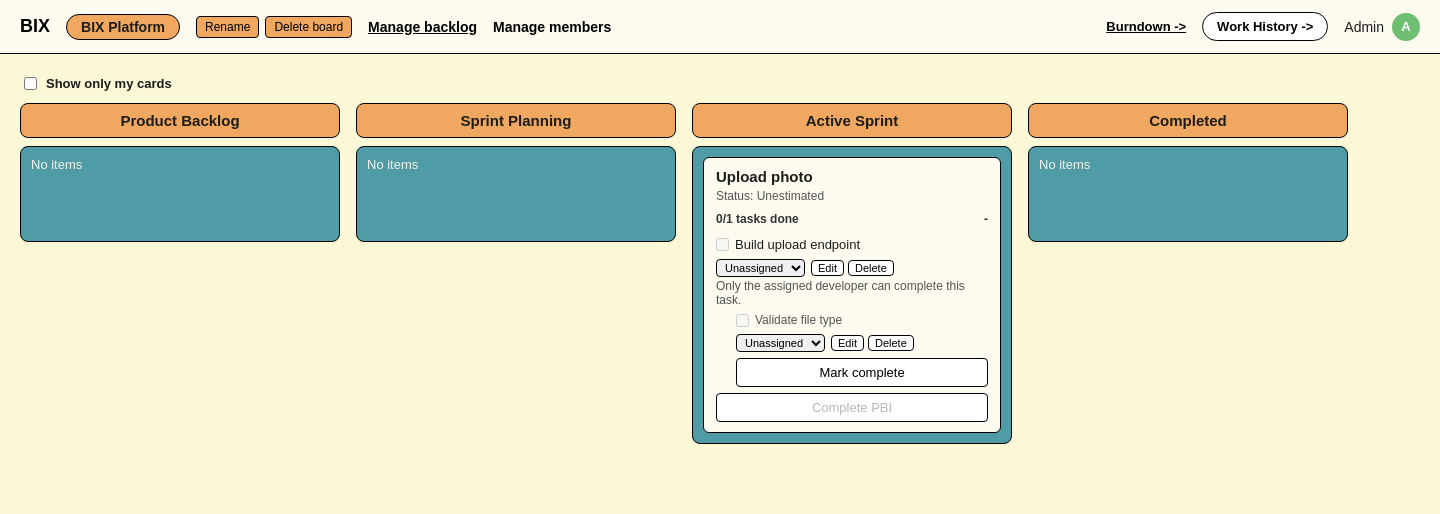
Scenario: Board page - rename the board (US-04c) › keeps the form open and shows the backend error when the rename is rejected
Check: the text "BIX Platform" is shown, box [66,14,180,40]
Click the button "Rename" at coordinates (228, 26), box [196,16,259,38]
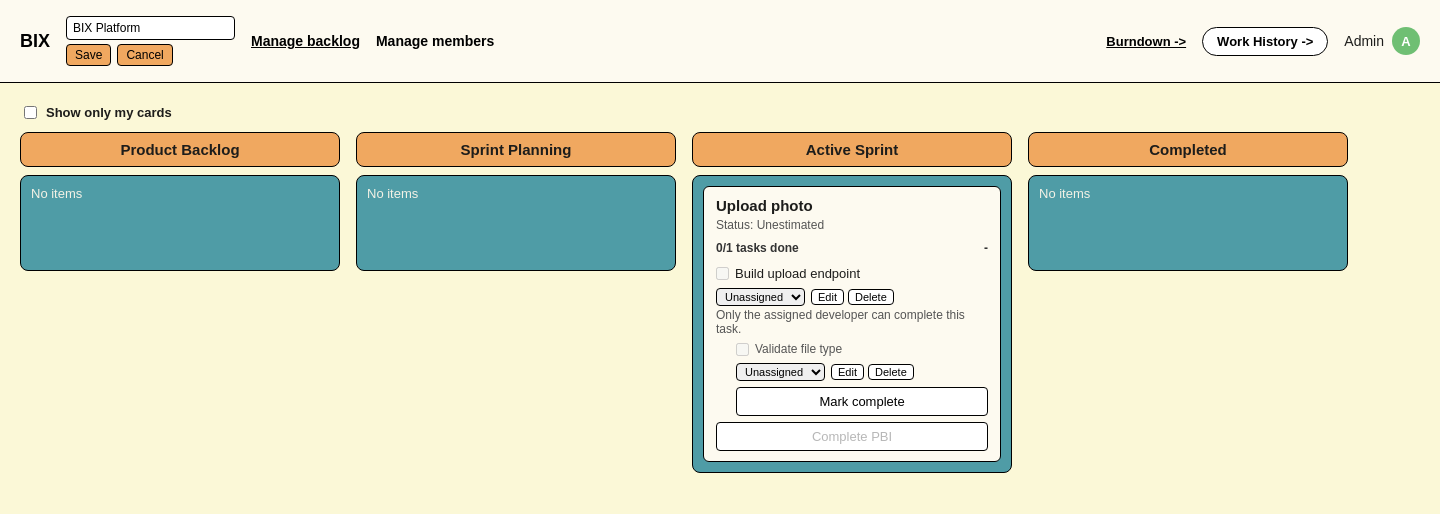
Replace the text in the field named "Project name" with "Another name" at coordinates (150, 28), box [66,16,235,40]
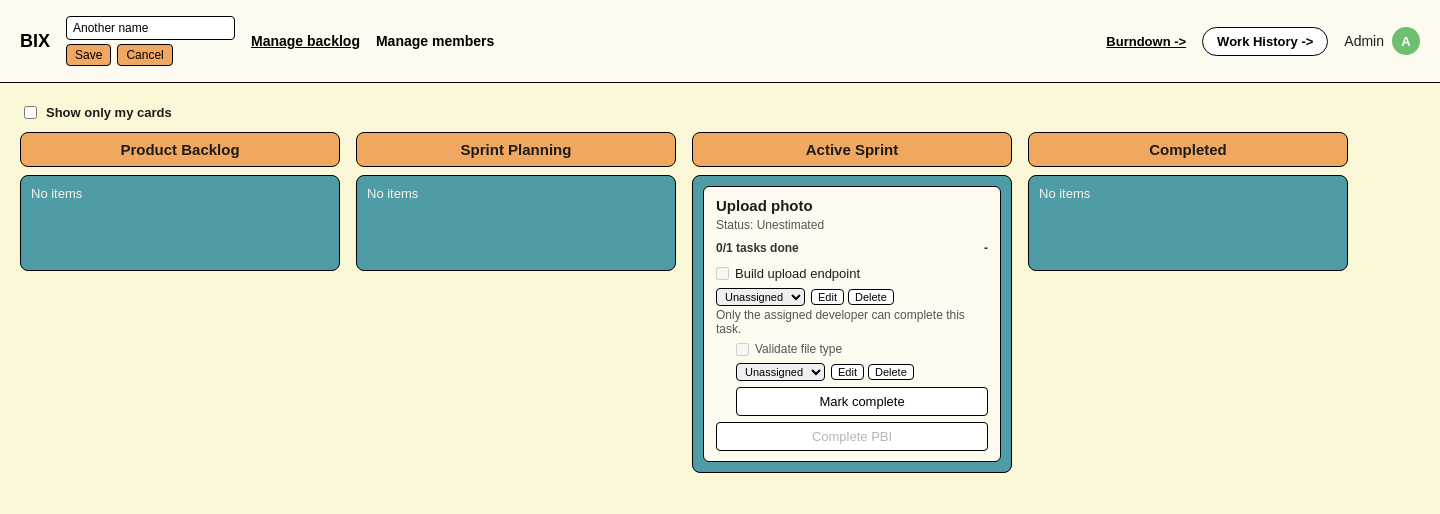
Click the button "Save" at coordinates (89, 55), box [66,44,111,66]
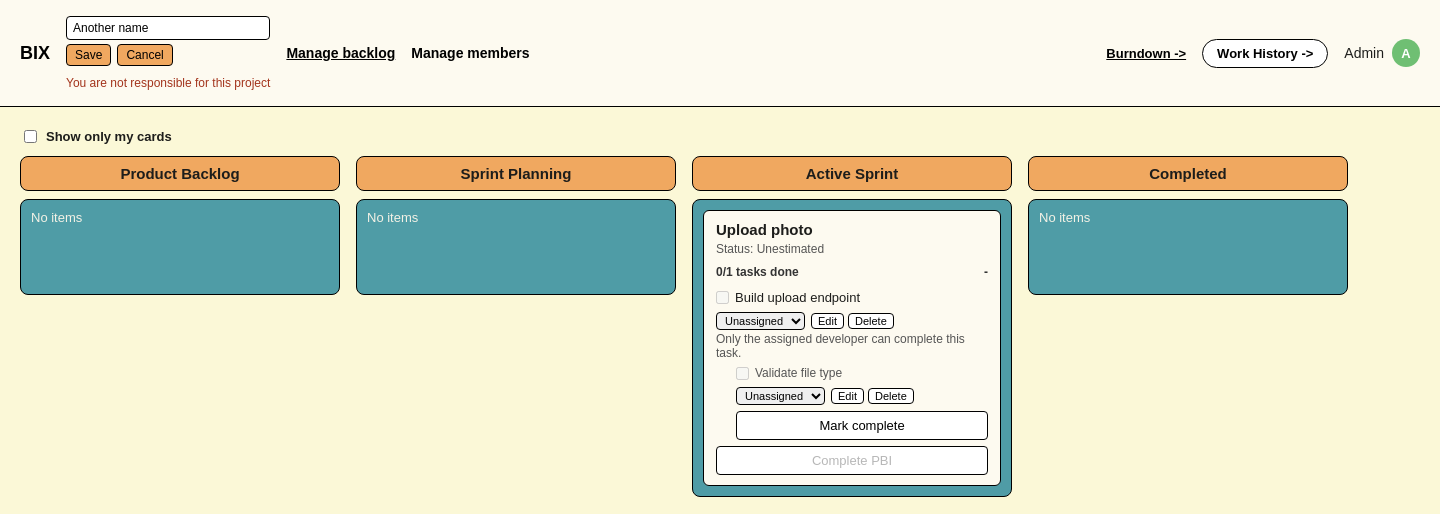
Check: the message reads "You are not responsible for this project", box [66,76,270,90]
